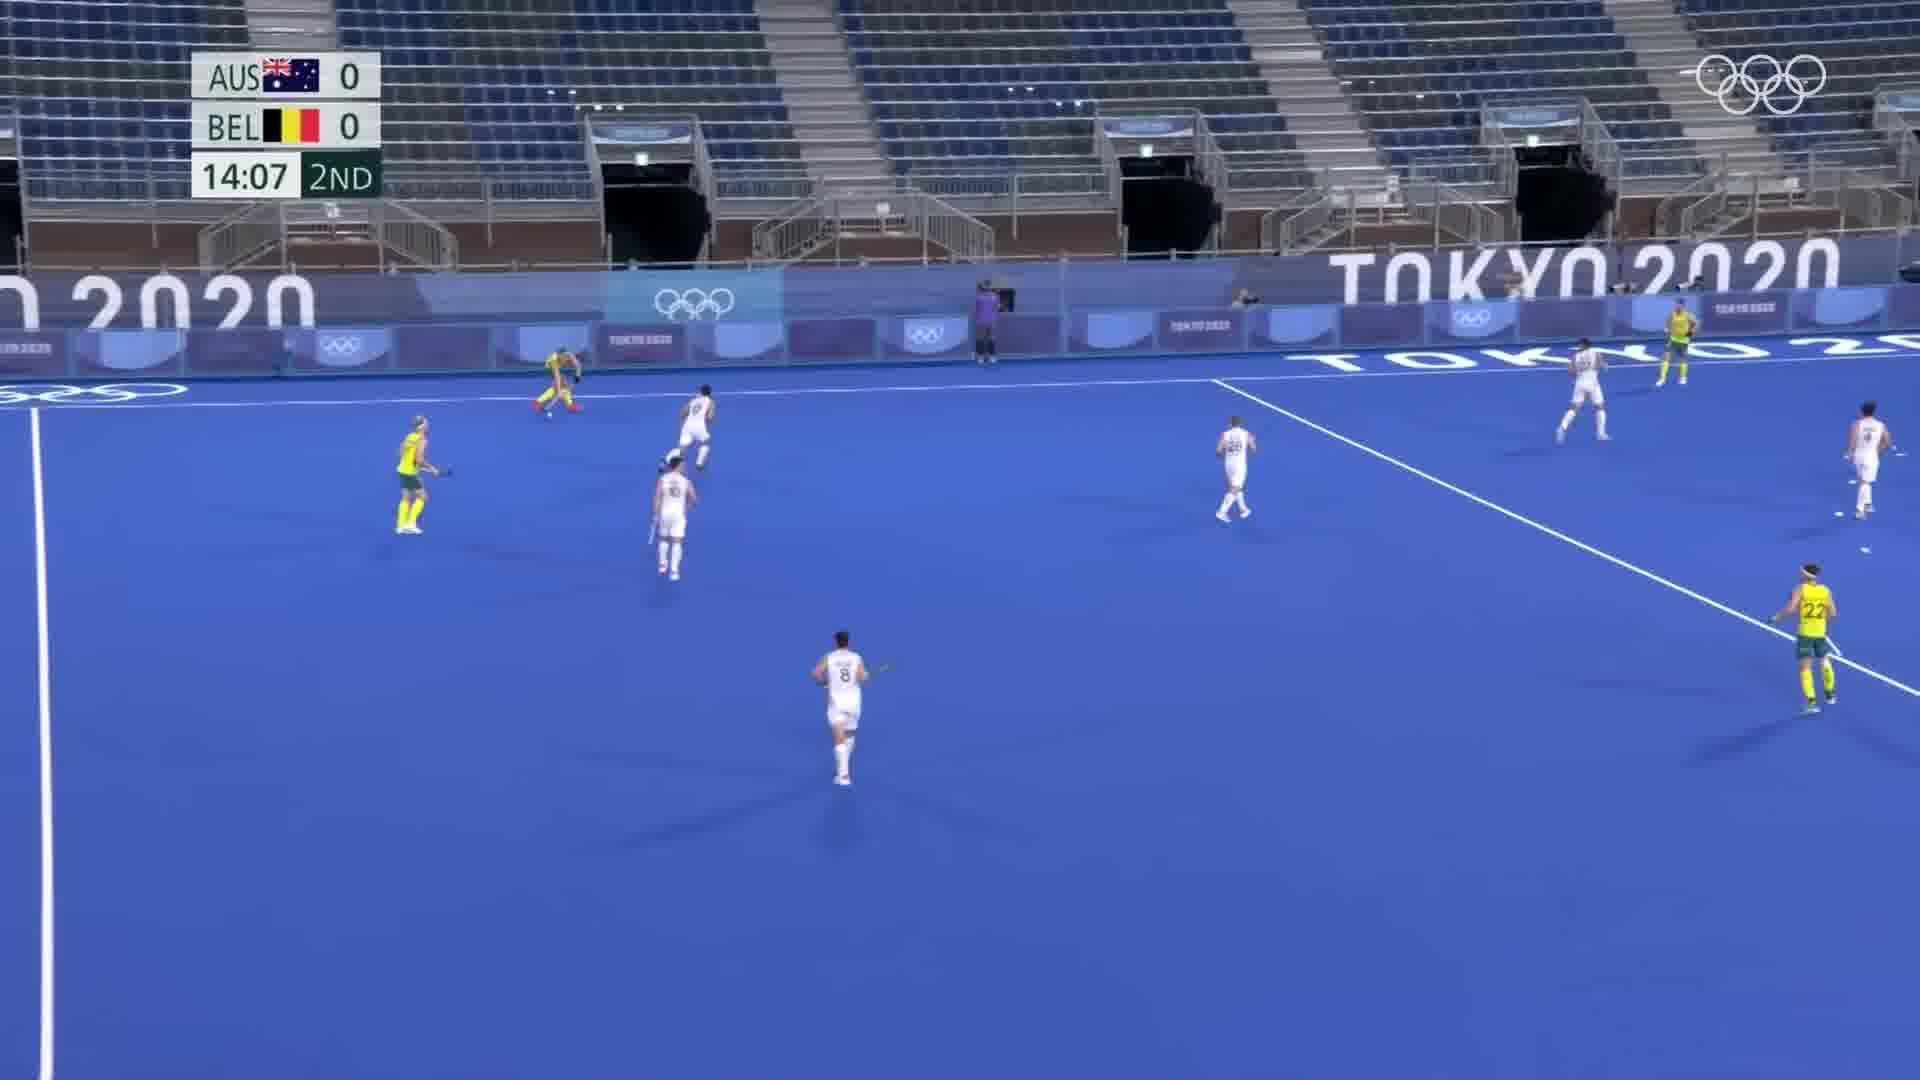ball: (543, 409, 558, 421)
